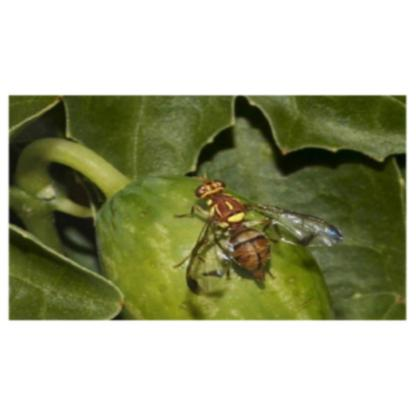fruit fly: (185, 179, 346, 320)
